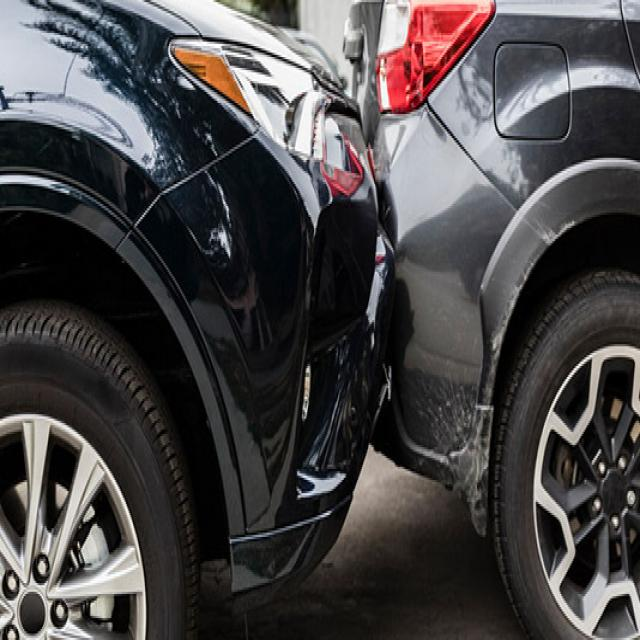accident: (113, 7, 598, 583)
